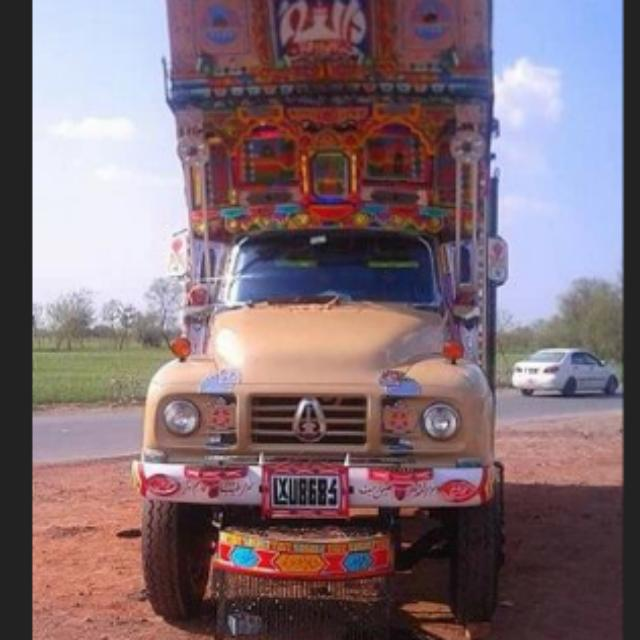plate: (270, 475, 340, 509)
